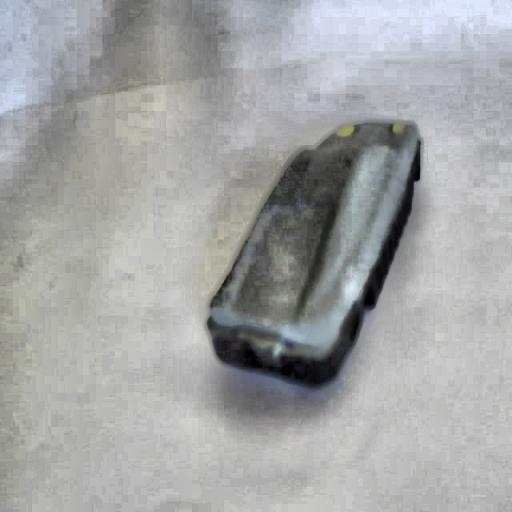normal_car: (203, 117, 424, 391)
